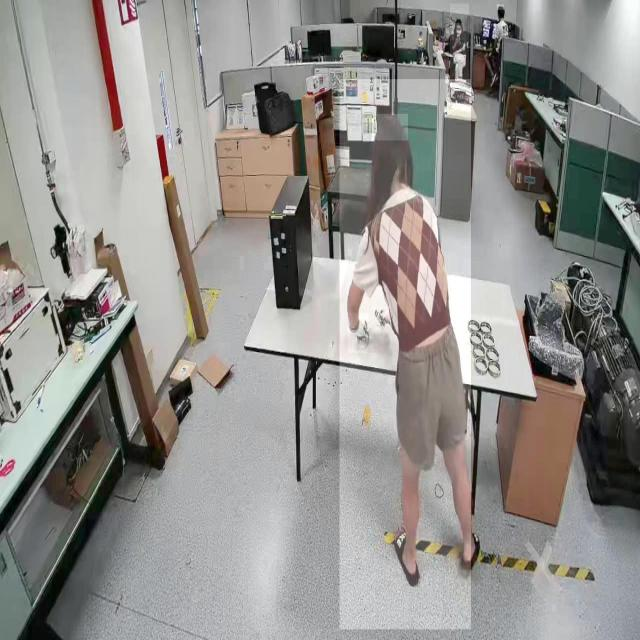face_mask: (452, 23, 464, 40)
hand_glove: (348, 313, 368, 353)
head_nohelmet: (372, 114, 408, 141), (497, 4, 505, 10), (454, 18, 462, 24)
person: (339, 79, 472, 630), (450, 4, 470, 86)
